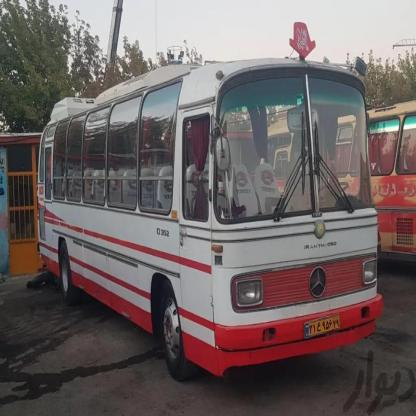Bus: (33, 20, 384, 406), (359, 90, 416, 261)
